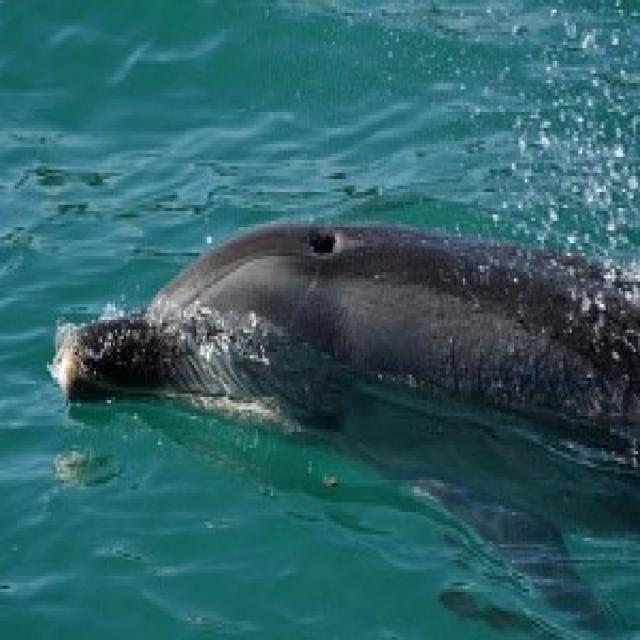Dolphin: (42, 182, 640, 639)
